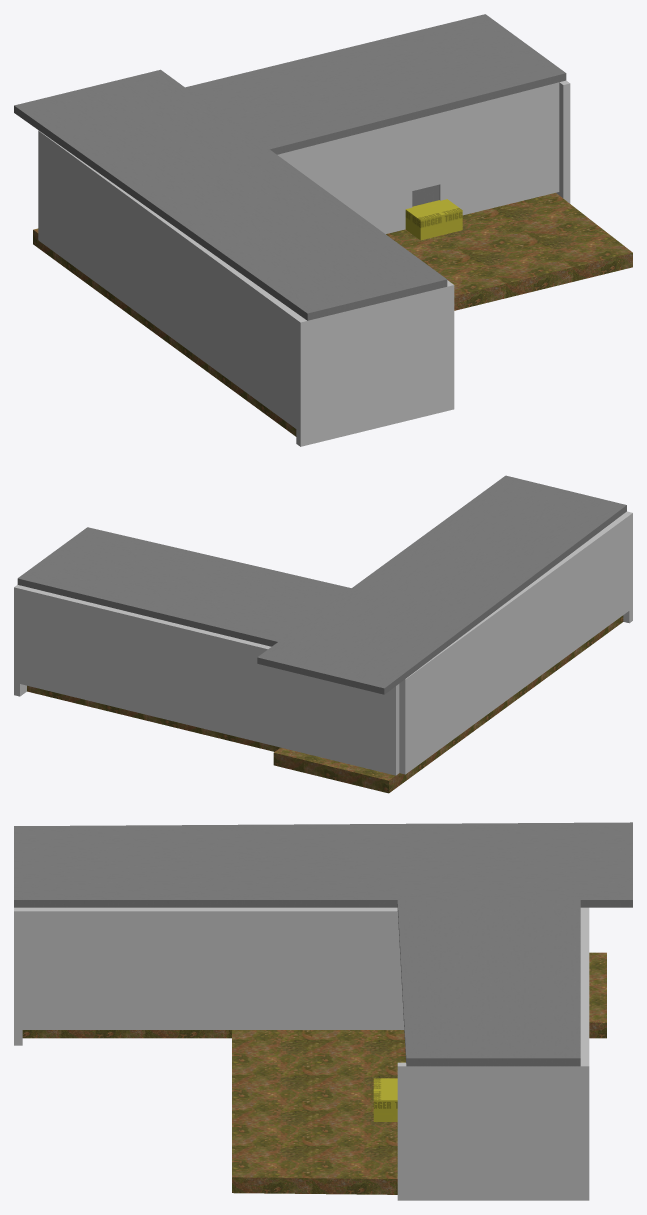
File: demo.obj
The picture shows the model from 3 angles, top to bottom: view 1: azimuth 30°, elevation 25°; view 2: azimuth 150°, elevation 25°; view 3: azimuth 270°, elevation 25°; orthographic projection. The views are drawn at different scales.
Parts seen in each view (by area): view 1: entity0_brush3, entity0_brush1, entity0_brush5, entity0_brush2, entity0_brush8, entity0_brush9, entity0_brush10, entity0_brush7, entity0_brush11, entity12_brush0, entity0_brush6; view 2: entity0_brush4, entity0_brush3, entity0_brush1, entity0_brush5, entity0_brush7, entity0_brush8, entity0_brush6, entity0_brush2; view 3: entity0_brush3, entity0_brush0, entity0_brush5, entity0_brush8, entity0_brush6, entity0_brush7, entity0_brush4, entity0_brush2, entity12_brush0.
Part boxes in pixels (x1=…): entity0_brush3: x1=14, y1=69, x2=447, y2=320; entity0_brush1: x1=38, y1=130, x2=302, y2=428; entity0_brush5: x1=185, y1=14, x2=566, y2=154; entity0_brush2: x1=296, y1=282, x2=454, y2=446; entity0_brush8: x1=386, y1=192, x2=632, y2=310; entity0_brush9: x1=439, y1=82, x2=559, y2=215; entity0_brush10: x1=277, y1=120, x2=412, y2=234; entity0_brush7: x1=33, y1=228, x2=296, y2=436; entity0_brush11: x1=412, y1=113, x2=440, y2=190; entity12_brush0: x1=405, y1=199, x2=462, y2=240; entity0_brush6: x1=556, y1=80, x2=570, y2=203; entity0_brush4: x1=20, y1=586, x2=399, y2=775; entity0_brush3: x1=257, y1=475, x2=626, y2=694; entity0_brush1: x1=399, y1=514, x2=629, y2=774; entity0_brush5: x1=17, y1=527, x2=351, y2=646; entity0_brush7: x1=273, y1=615, x2=623, y2=793; entity0_brush8: x1=27, y1=685, x2=280, y2=751; entity0_brush6: x1=14, y1=585, x2=26, y2=696; entity0_brush2: x1=623, y1=511, x2=632, y2=623; entity0_brush3: x1=14, y1=822, x2=632, y2=907; entity0_brush0: x1=22, y1=907, x2=404, y2=1029; entity0_brush5: x1=397, y1=900, x2=580, y2=1066; entity0_brush8: x1=232, y1=1030, x2=405, y2=1194; entity0_brush6: x1=397, y1=1062, x2=589, y2=1200; entity0_brush7: x1=22, y1=952, x2=606, y2=1038; entity0_brush4: x1=580, y1=907, x2=589, y2=1062; entity0_brush2: x1=14, y1=907, x2=22, y2=1045; entity12_brush0: x1=373, y1=1078, x2=397, y2=1121.
Size of the model in its own units: 1024 by 288 by 1136.
